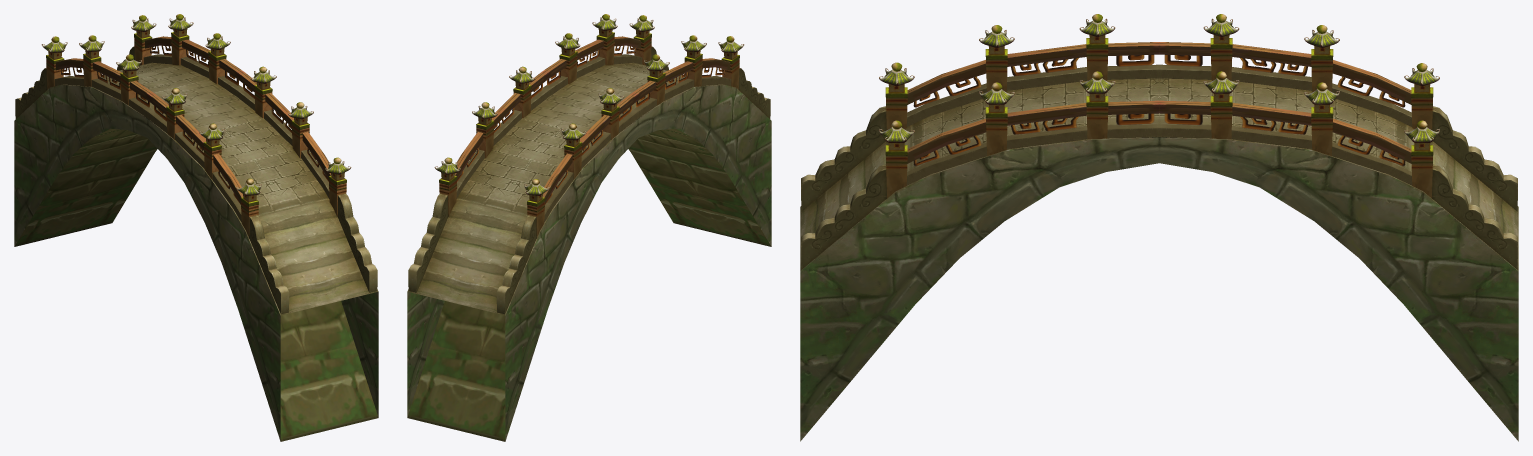
Rendered from qiao.FBX.
The picture shows the model from 3 angles, left to right: view 1: azimuth 30°, elevation 25°; view 2: azimuth 150°, elevation 25°; view 3: azimuth 270°, elevation 25°; orthographic projection. The views are drawn at different scales.
Parts seen in each view (by area): view 1: qiao; view 2: qiao; view 3: qiao.
Part boxes in pixels (x1=…): qiao: x1=14, y1=14, x2=378, y2=441; qiao: x1=407, y1=14, x2=771, y2=441; qiao: x1=800, y1=14, x2=1518, y2=441.
Bounding box in the file's own units: 470 × 1134 × 2015.
